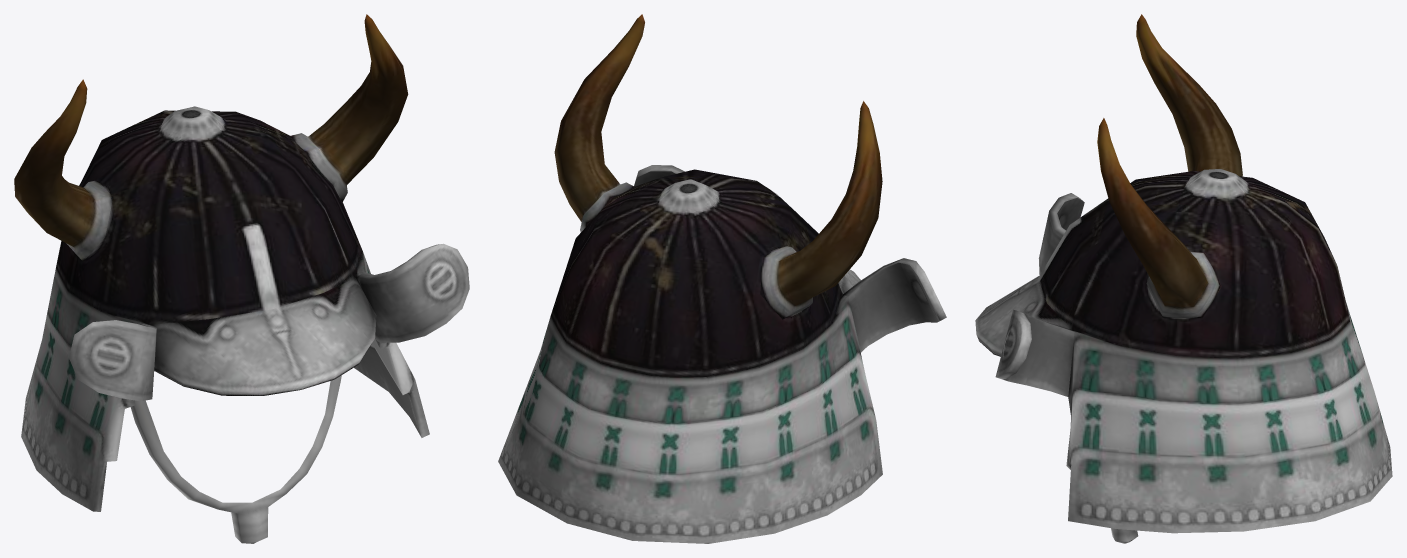
File: helmet-heavyinfantry.glb
3 renders of one model, left to right at view 1: azimuth 30°, elevation 25°; view 2: azimuth 150°, elevation 25°; view 3: azimuth 270°, elevation 25°, orthographic. The views are drawn at different scales.
Size of the model in its own units: 0.3434 by 0.4393 by 0.3524.
Materials: 1 (1 with a texture image).
